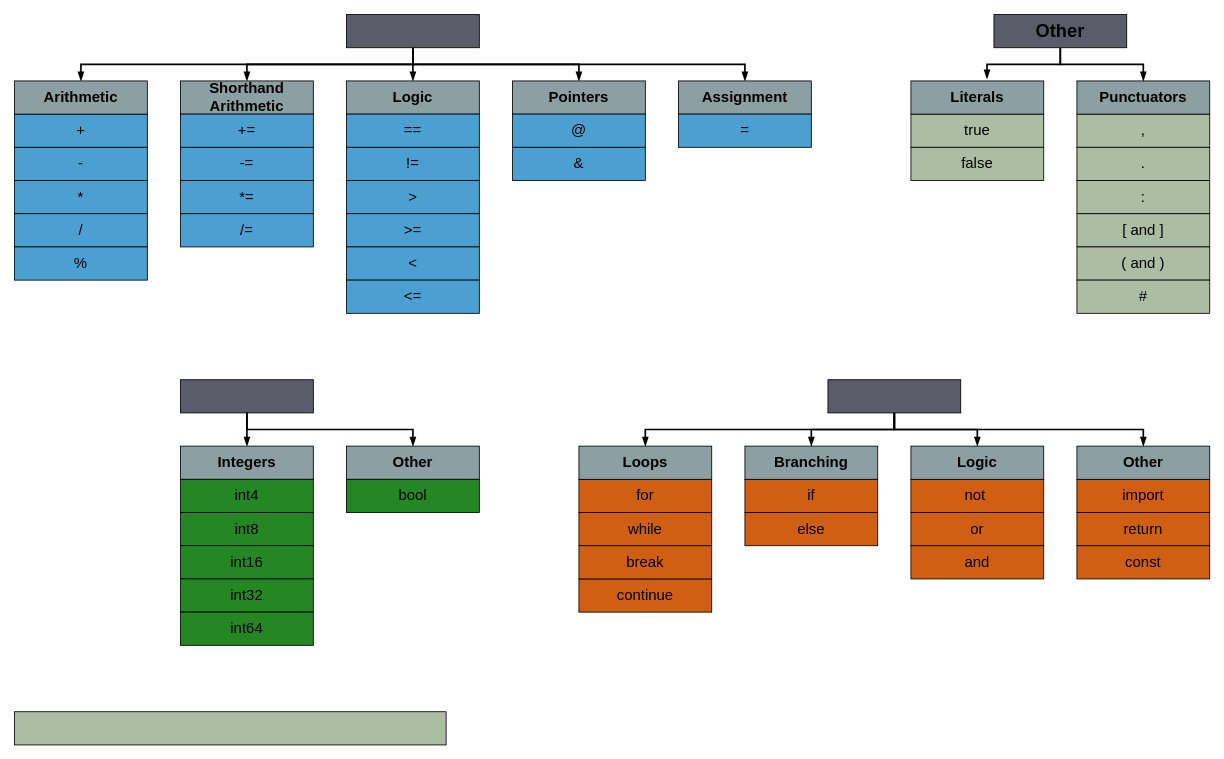
The diagram is 1224 pixels wide and 759 high, and some of its shapes have lost their labels. The centre of each missing label's shape, as x and y in pixels:
"Data Types" goes at point (246, 396).
"Identifiers can be a-z 0-9 _ - but cannot contain spaces" goes at point (230, 728).
"Keywords" goes at point (894, 396).
"Operators" goes at point (412, 31).
